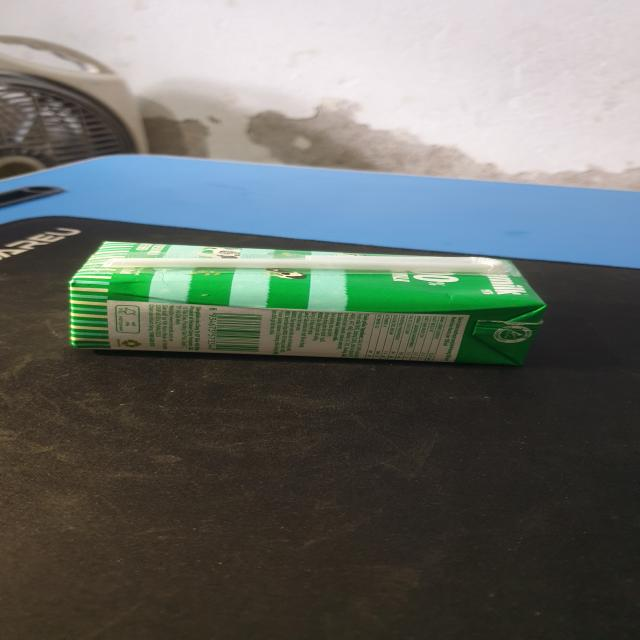Vina: (66, 239, 546, 374)
